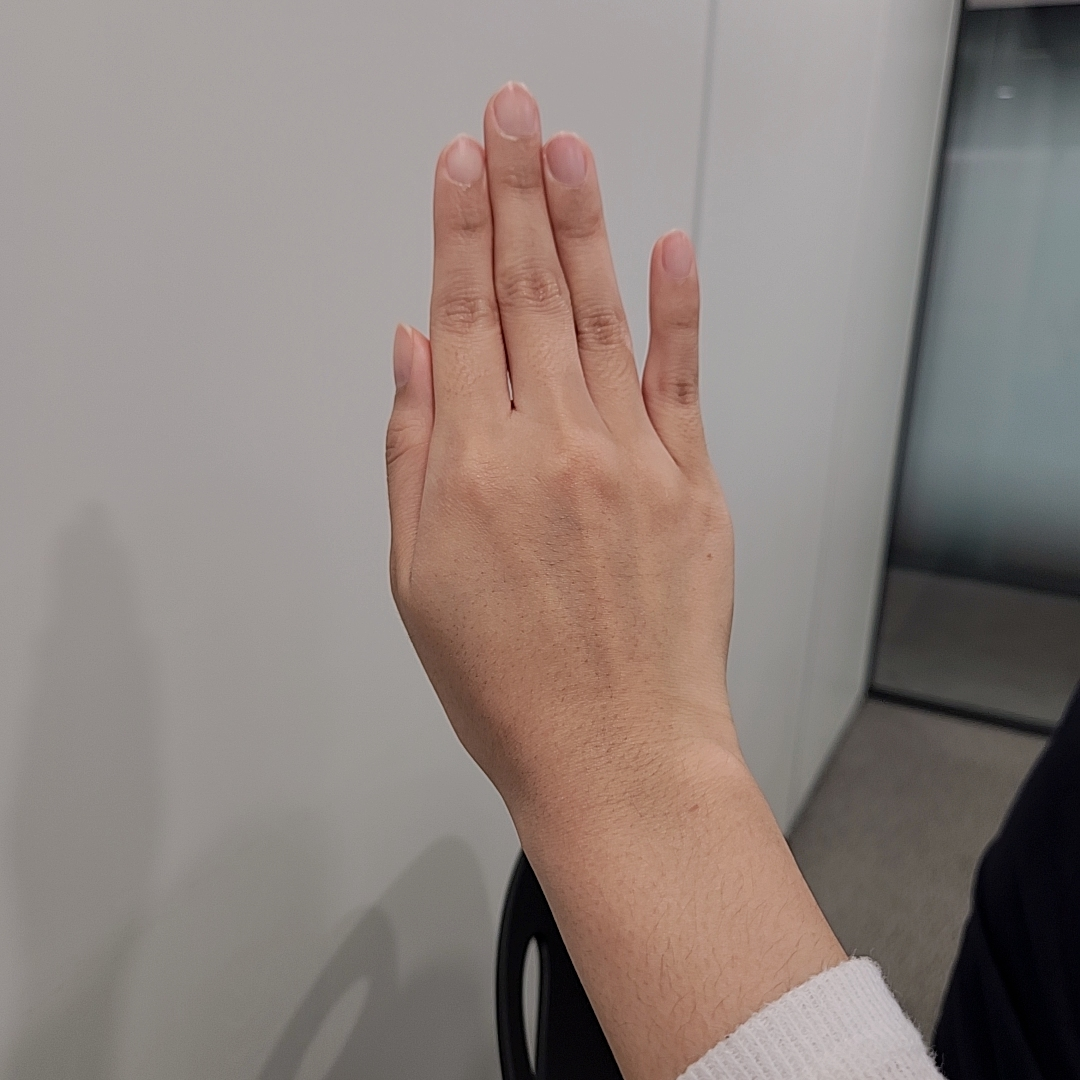me: (383, 79, 737, 780)
